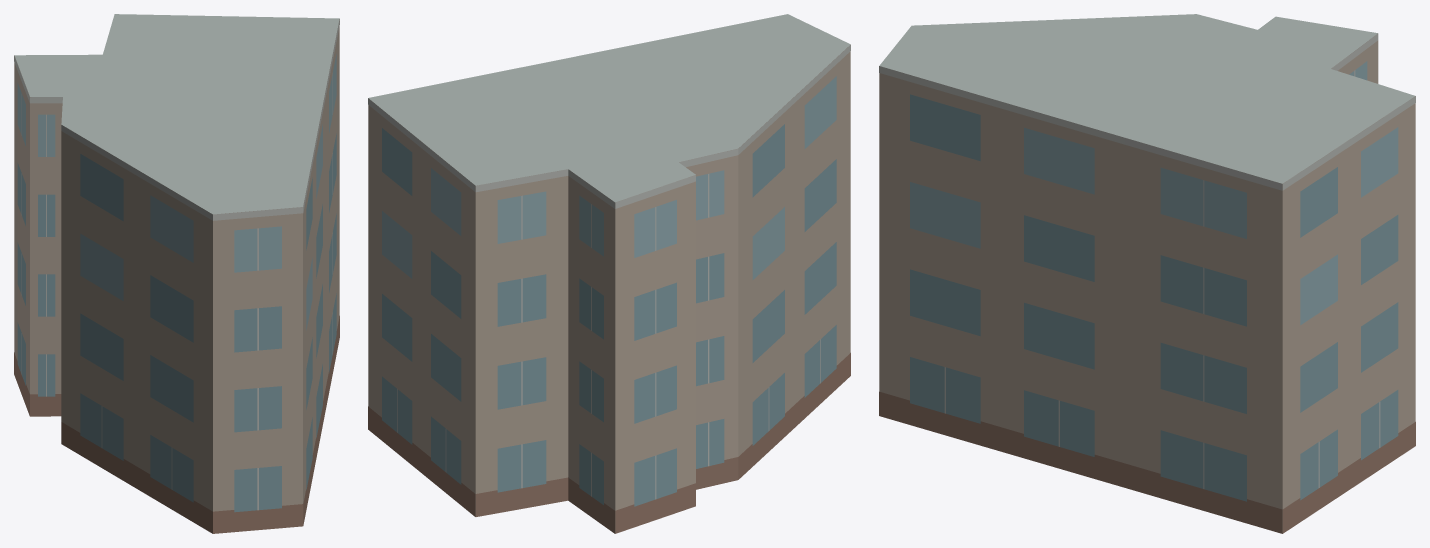
The model's file is survey-upis-32458363.glb.
3 renders of one model, left to right at view 1: azimuth 30°, elevation 25°; view 2: azimuth 150°, elevation 25°; view 3: azimuth 270°, elevation 25°, orthographic. The views are drawn at different scales.
Visible parts, largest first — view 1: survey-upis-32458363.tmp; view 2: survey-upis-32458363.tmp; view 3: survey-upis-32458363.tmp.
Boxes of the visible parts, box(x1,y1,x2,y2) form: survey-upis-32458363.tmp: box(14, 14, 339, 533); survey-upis-32458363.tmp: box(368, 14, 850, 533); survey-upis-32458363.tmp: box(879, 14, 1415, 533).
Bounding box in the file's own units: 12.7 × 12.2 × 16.96.
